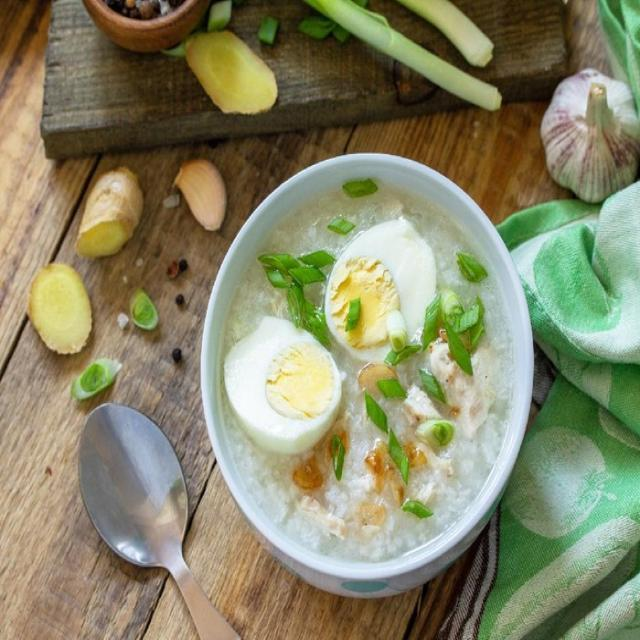bubur ayam: (222, 181, 518, 565)
mangkuk: (198, 152, 534, 600), (80, 0, 212, 54)
telur rebus: (323, 219, 435, 359)
